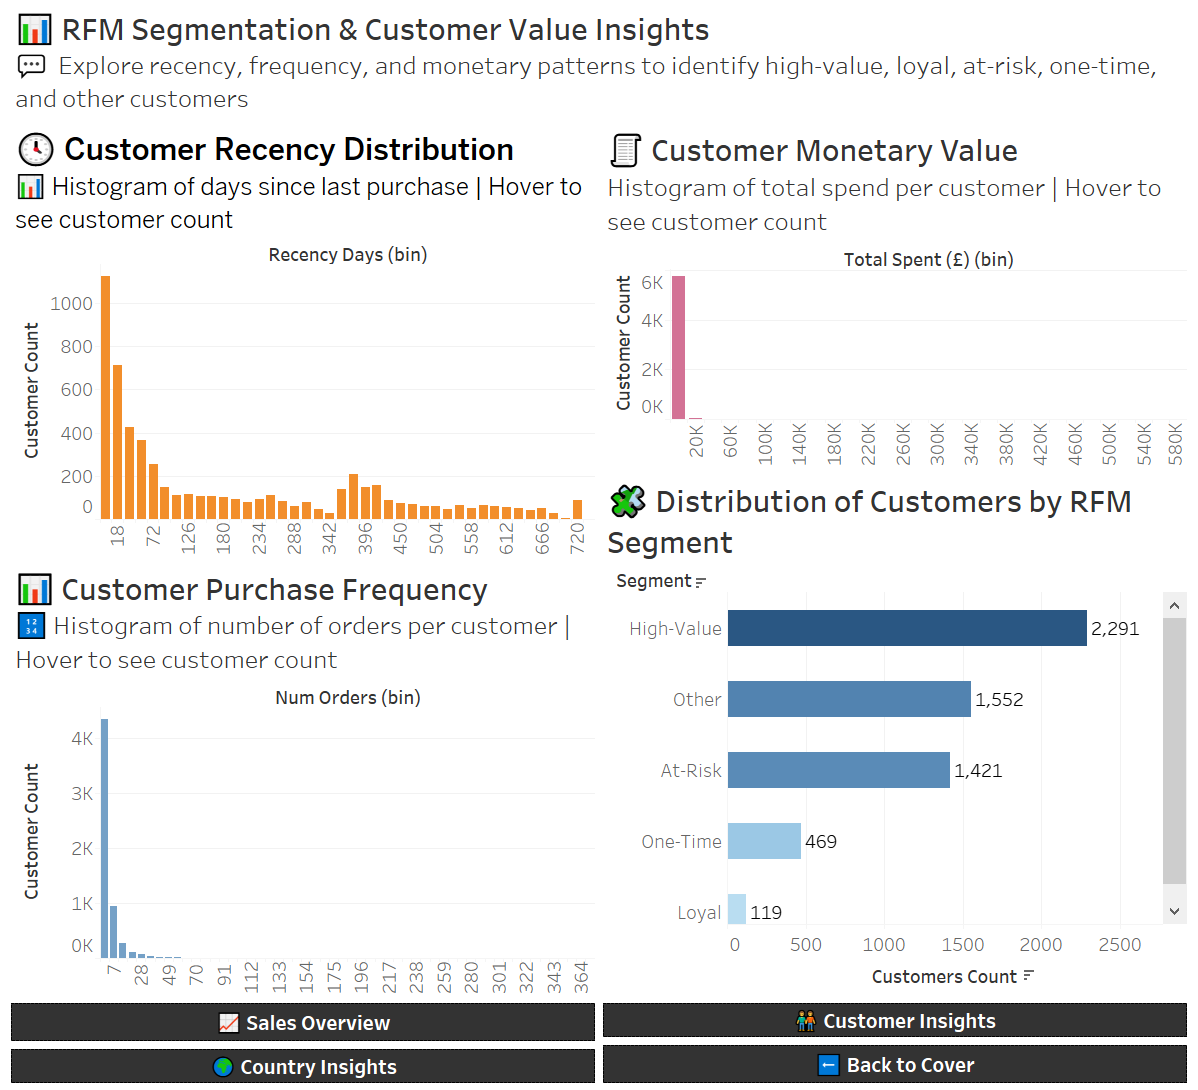

The page's visual inventory and layout, read from the dashboard file:
{"tool":"tableau","page":{"name":"dashboard_4_rfm_segmentation","canvas":[1200,1000],"ordinal":4},"visuals":[{"type":"title","box":[8,8,1184,117]},{"type":"worksheet","title":"09_customer_recency","mark":"Automatic","rows":["Calculation_87538741832163334"],"cols":["Recency Days (bin)"],"box":[8,125,592,393.6]},{"type":"worksheet","title":"11_customer_monetary_value","mark":"Automatic","rows":["Calculation_87538741842538505"],"cols":["Total Spent (bin)"],"box":[600,125,592,314.7]},{"type":"worksheet","title":"12_rfm_segment_distribution","mark":"Automatic","rows":["Segment"],"cols":["Calculation_87538742256435214"],"box":[600,439.7,592,472.4]},{"type":"worksheet","title":"10_customer_frequency","mark":"Automatic","rows":["Calculation_87538741838856199"],"cols":["Num Orders (bin)"],"box":[8,518.5,592,393.6]},{"type":"dashboard-object","box":[8,912.1,592,41.9]},{"type":"dashboard-object","box":[600,912.1,592,38]},{"type":"dashboard-object","box":[600,950.1,592,41.9]},{"type":"dashboard-object","box":[8,954,592,38]}]}

Visuals, with their boxes on the page's 1200x1000 design canvas (x1, y1, x2, y2). These are canvas units, not pixel positions in the 1198x1090 screenshot, which may show the page scaled, cropped or inside an application window:
title: [x1=8, y1=8, x2=1192, y2=125]
"09_customer_recency" worksheet: [x1=8, y1=125, x2=600, y2=519]
"11_customer_monetary_value" worksheet: [x1=600, y1=125, x2=1192, y2=440]
"12_rfm_segment_distribution" worksheet: [x1=600, y1=440, x2=1192, y2=912]
"10_customer_frequency" worksheet: [x1=8, y1=518, x2=600, y2=912]
dashboard-object: [x1=8, y1=912, x2=600, y2=954]
dashboard-object: [x1=600, y1=912, x2=1192, y2=950]
dashboard-object: [x1=600, y1=950, x2=1192, y2=992]
dashboard-object: [x1=8, y1=954, x2=600, y2=992]
